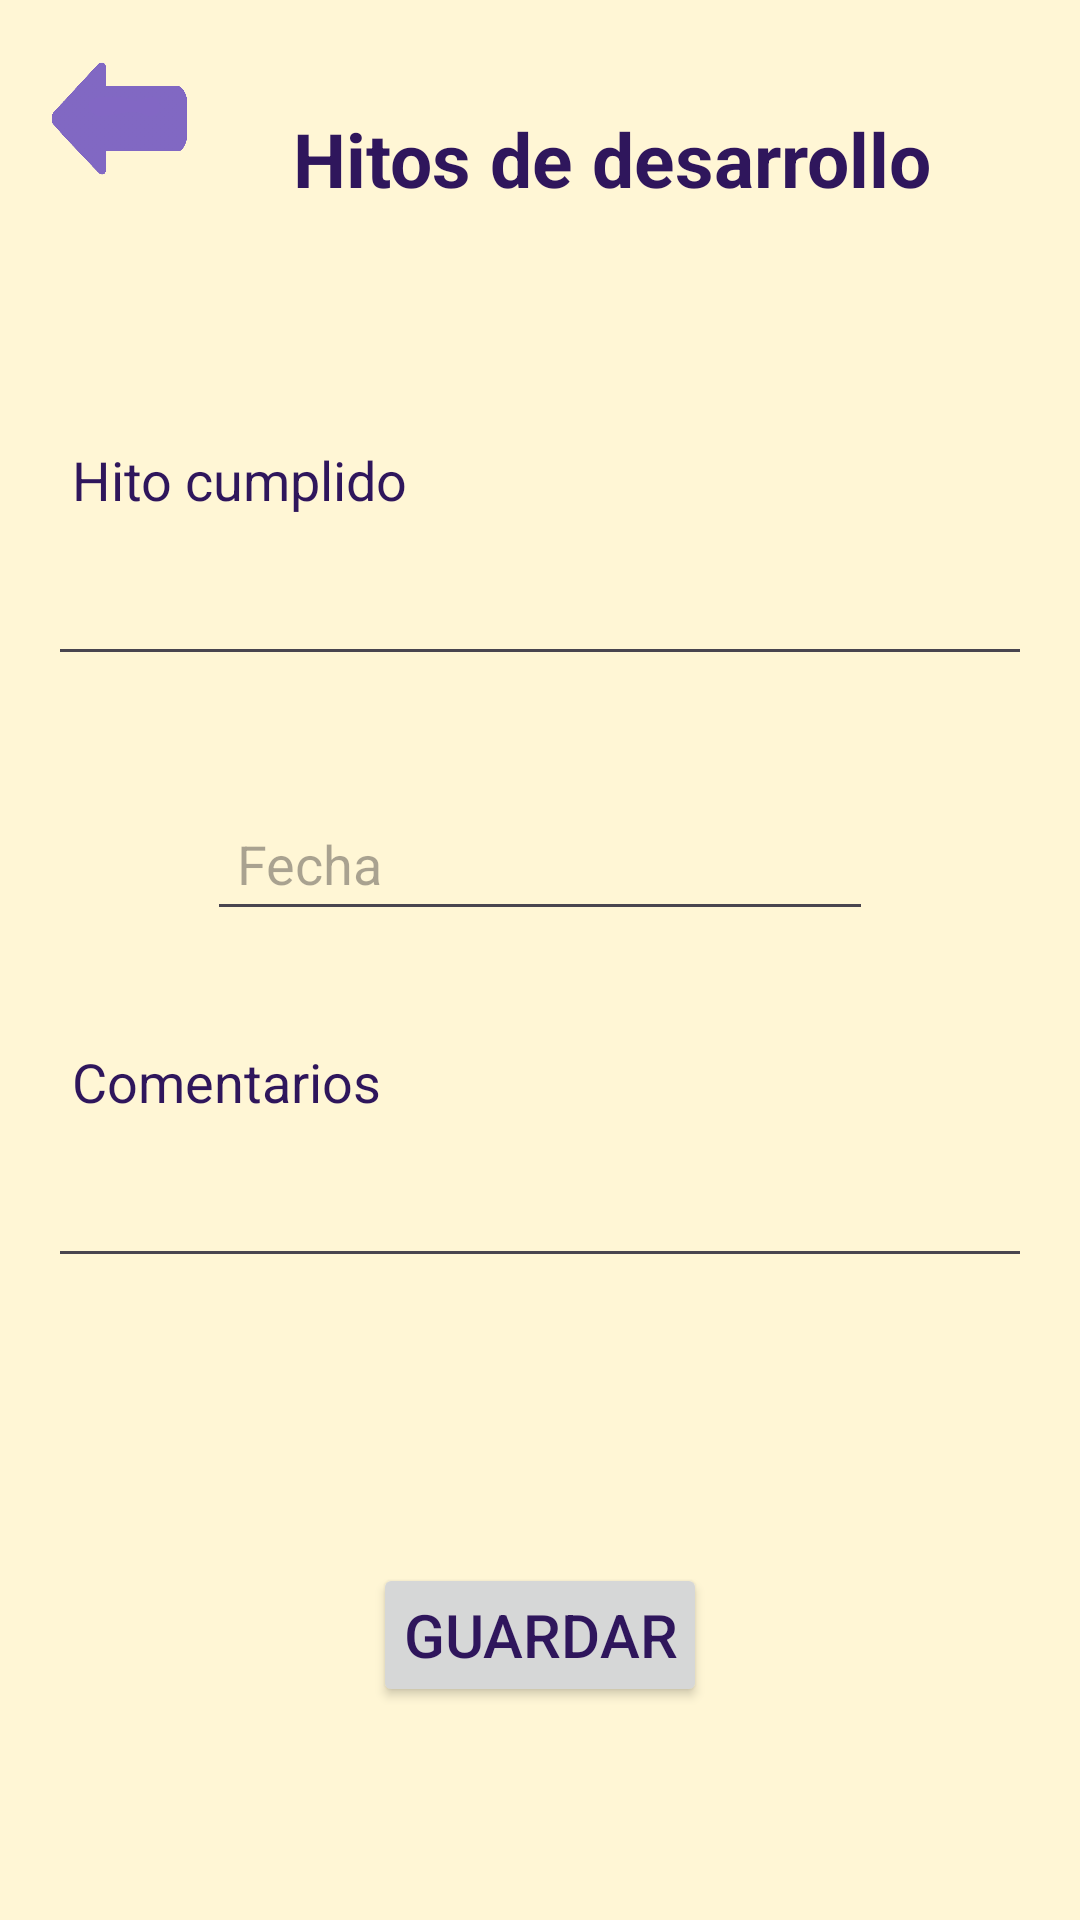

Named icons in this screenshot (1080w x 1920h) and their bounding boxes, bbox=[x1, y1, x2, y2]:
atras: bbox=[52, 63, 187, 175]
